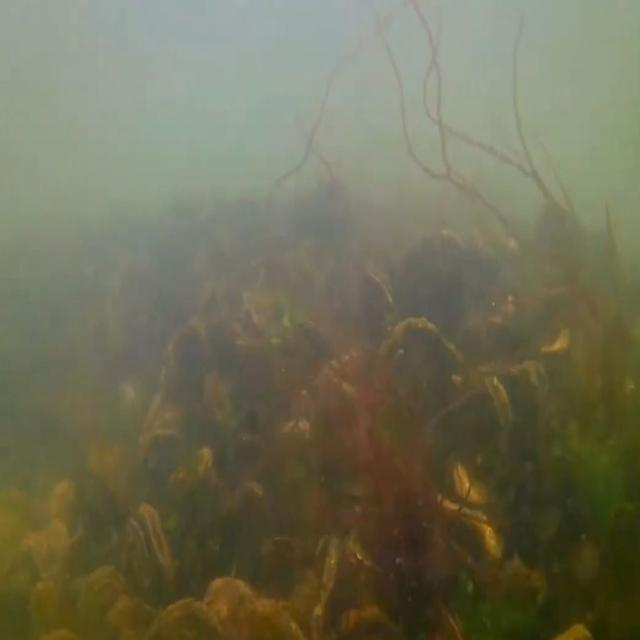Oyster-Closed: (363, 261, 397, 357), (164, 444, 216, 500)
Oyster-Indeterminate: (376, 316, 471, 404), (424, 376, 514, 454), (203, 573, 301, 640), (435, 494, 504, 558), (75, 564, 130, 640), (480, 362, 554, 412), (140, 401, 190, 452), (453, 459, 502, 504)
Oyster-Open: (119, 501, 172, 636), (308, 528, 343, 632), (340, 533, 388, 578)
